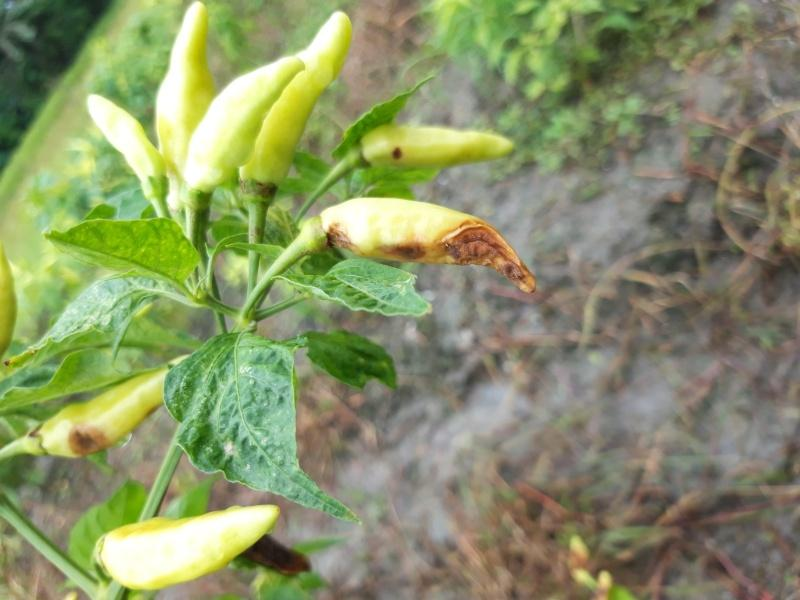antraknosa: (316, 196, 540, 301), (33, 356, 181, 457), (359, 123, 514, 168)
cabai_normal: (236, 11, 354, 190), (186, 53, 309, 214), (98, 505, 284, 591), (156, 1, 219, 166), (86, 94, 167, 190)
